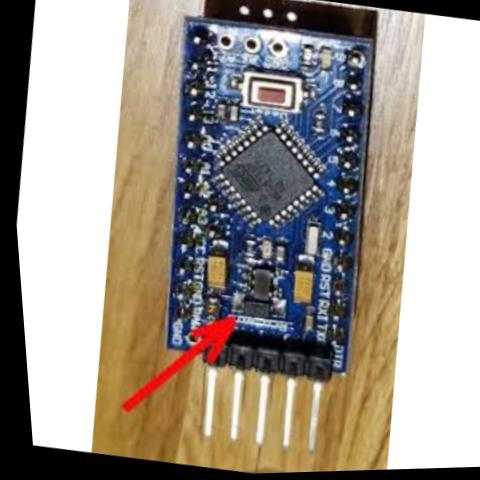Arduino-Pro-Mini: (106, 1, 408, 467)
